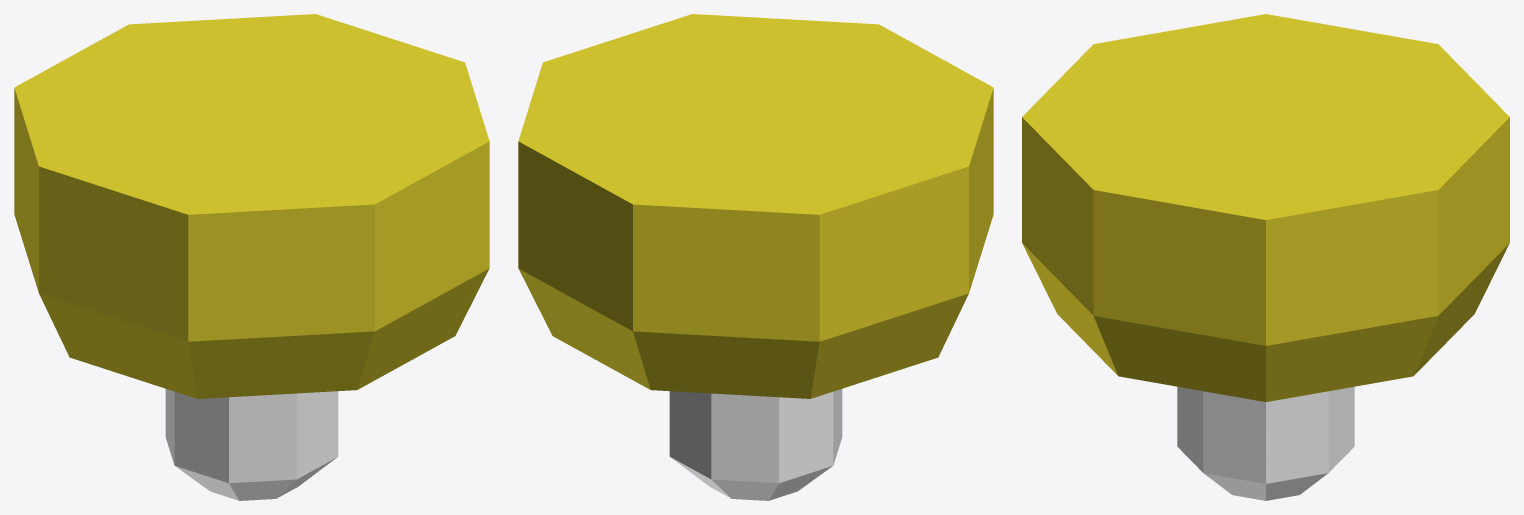
The model's file is tip_2.glb.
3 views of the same model, side by side, from view 1: azimuth 30°, elevation 25°; view 2: azimuth 150°, elevation 25°; view 3: azimuth 270°, elevation 25° (orthographic).
Visible parts, largest first — view 1: Ponta2; view 2: Ponta2; view 3: Ponta2.
Boxes of the visible parts, x1,y1,x2,y2 form: Ponta2: (14,14,489,500); Ponta2: (518,14,993,500); Ponta2: (1022,14,1509,500).
Size of the model in its own units: 2.2 by 1.81 by 2.2.
